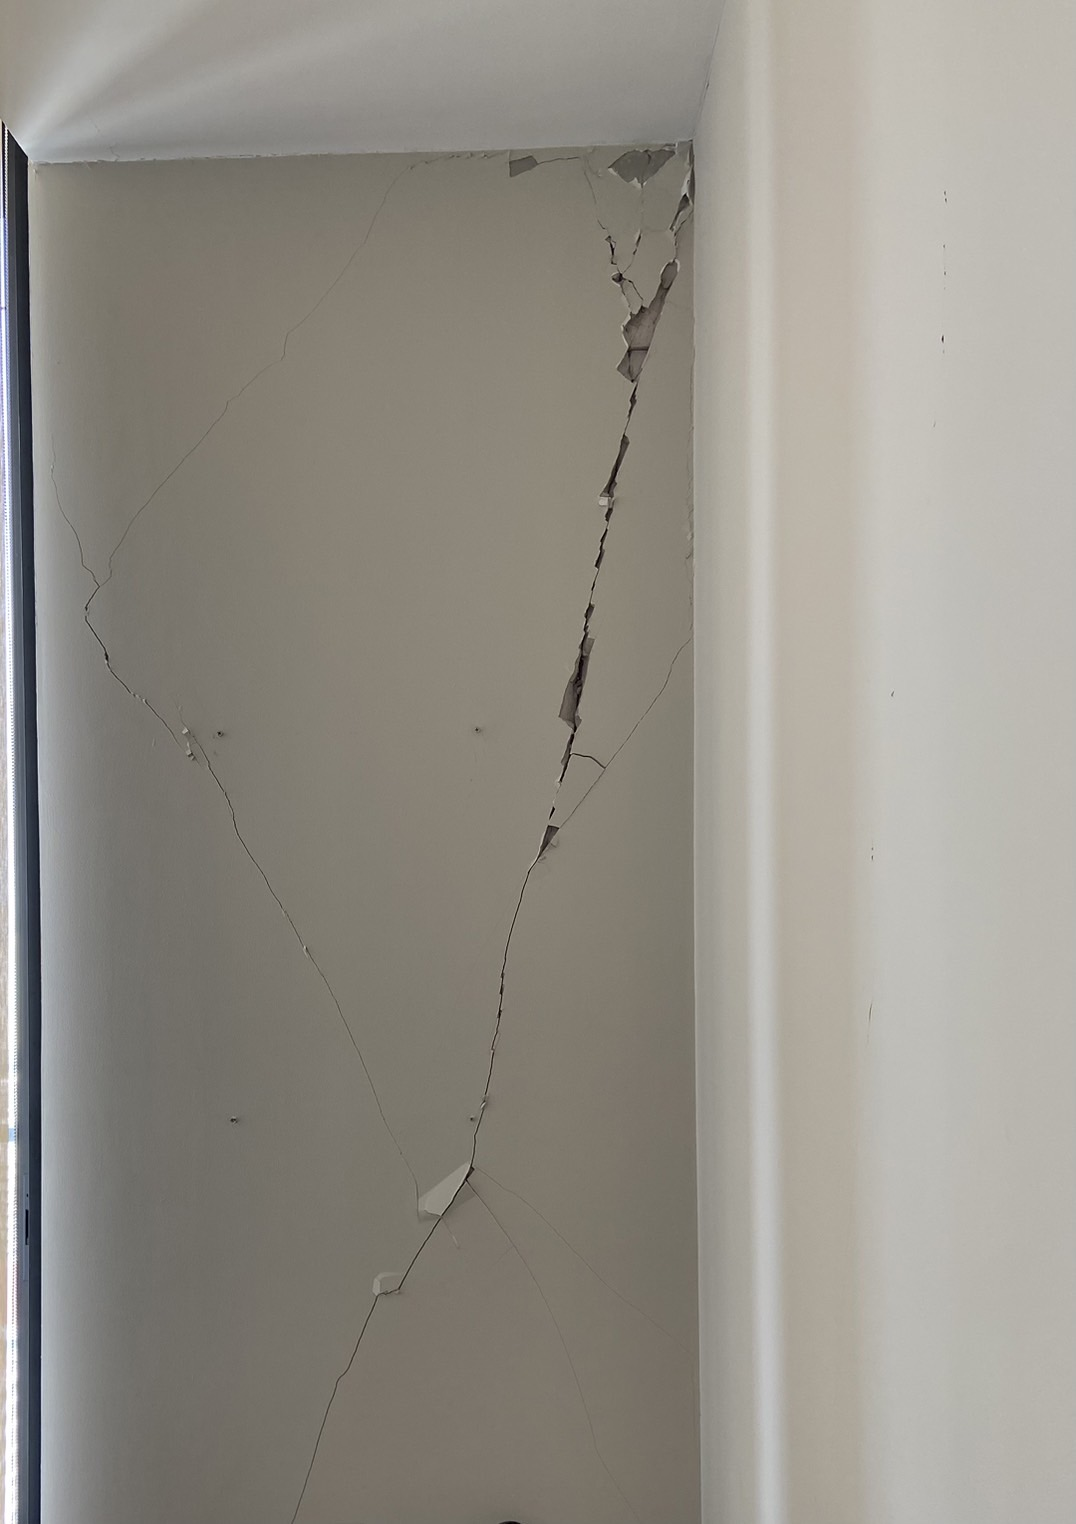Medium: (415, 153, 691, 1304)
